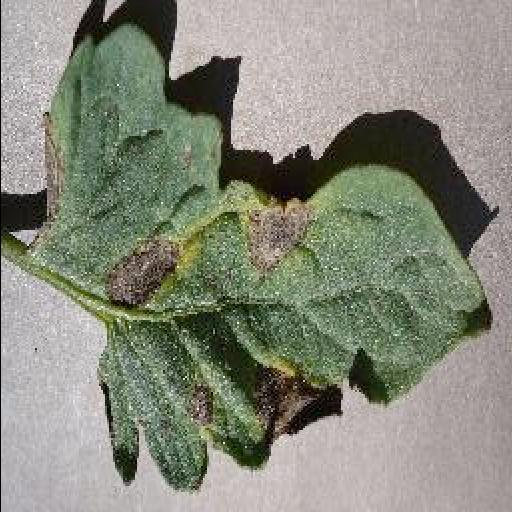Early Blight: (34, 28, 494, 492)
